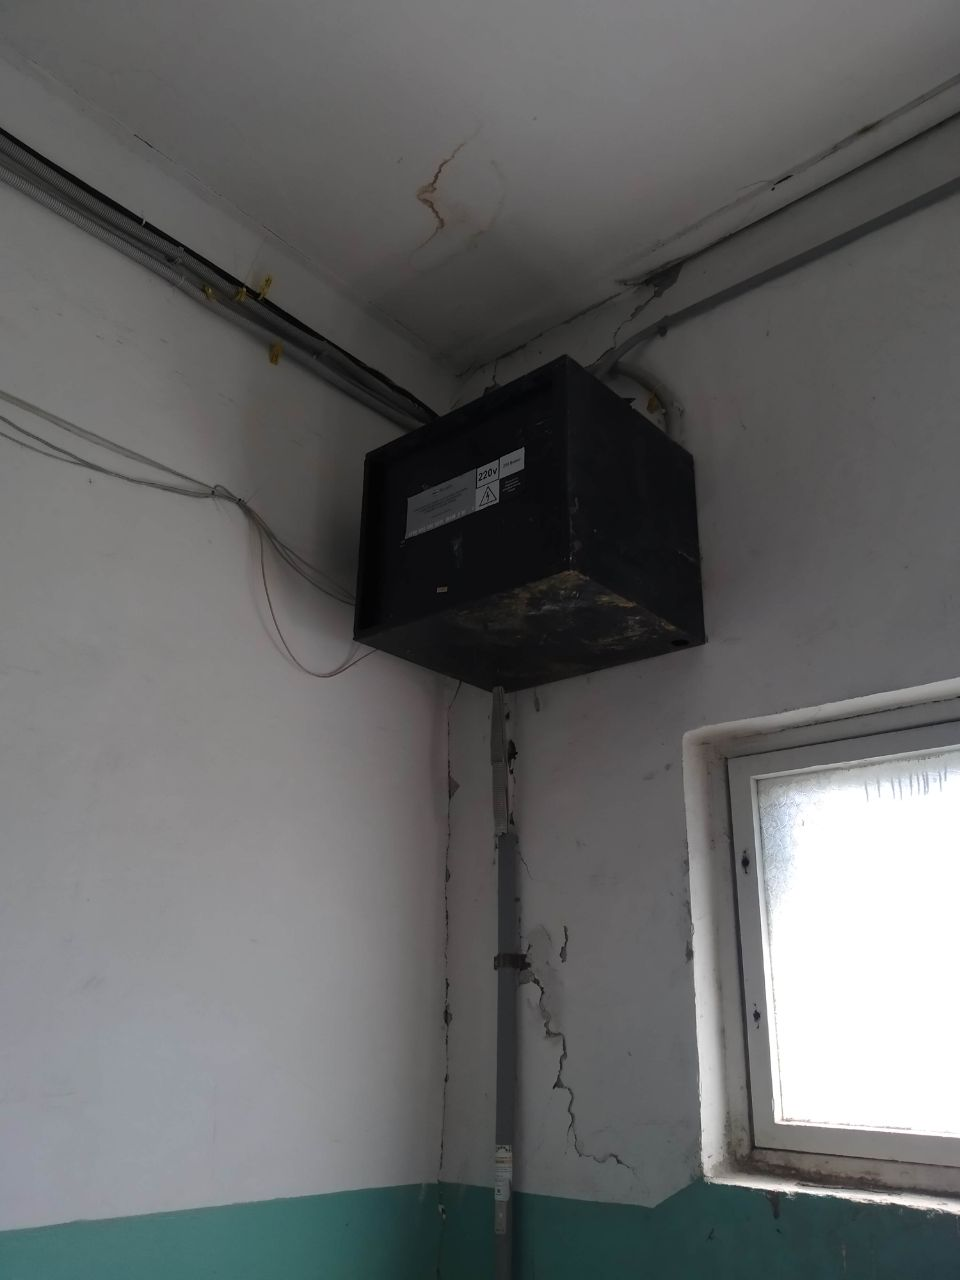shta-9m: (347, 341, 720, 703)
